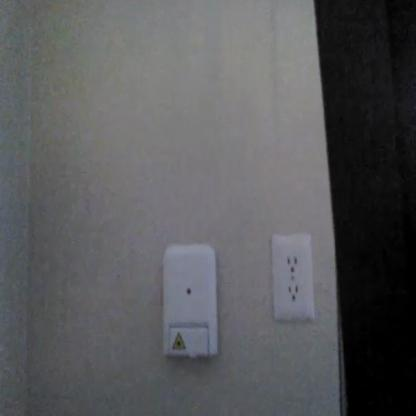OUTLET: (271, 234, 315, 321)
